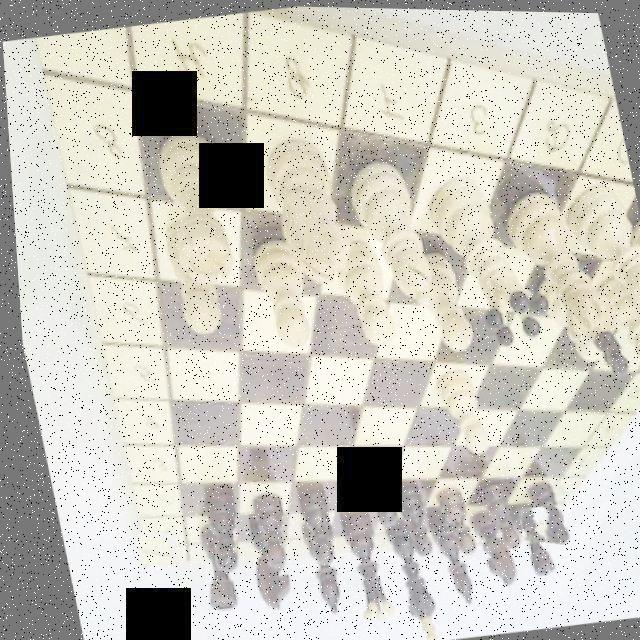chess-table-corners: (511, 501, 562, 545), (127, 528, 174, 570)
